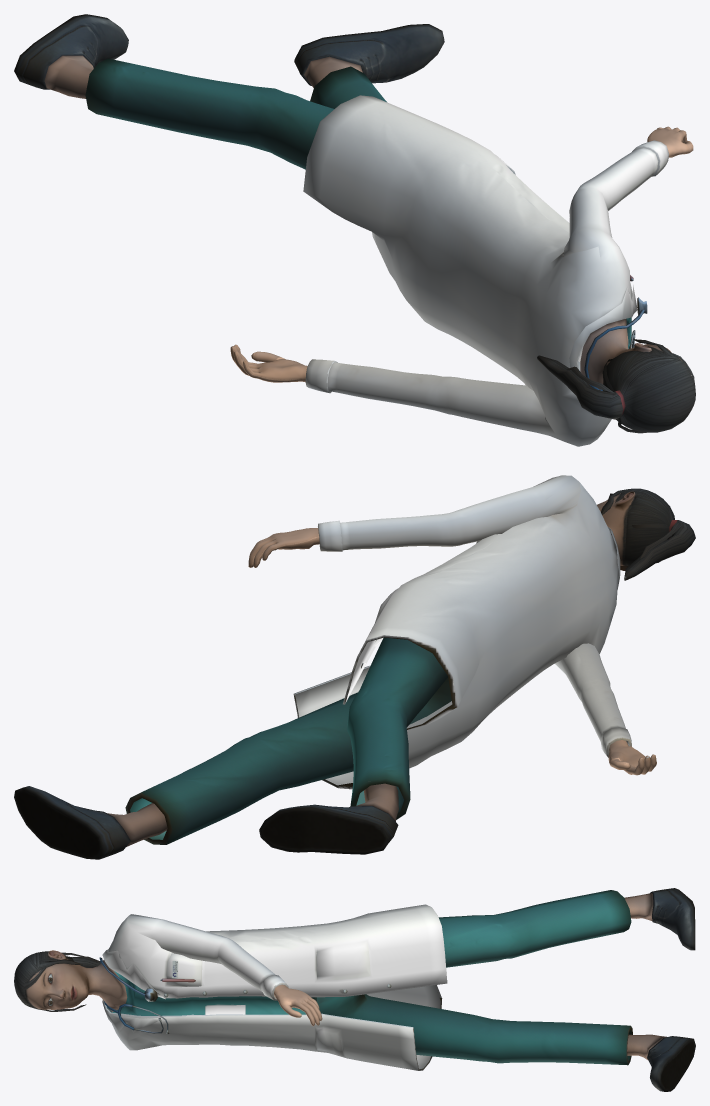
File: walk.obj
3 views of the same model, one above another, from view 1: azimuth 30°, elevation 25°; view 2: azimuth 150°, elevation 25°; view 3: azimuth 270°, elevation 25° (orthographic). The views are drawn at different scales.
Size of the model in its own units: 0.9074 by 0.3716 by 1.69.
Materials: 1 (1 with a texture image).
